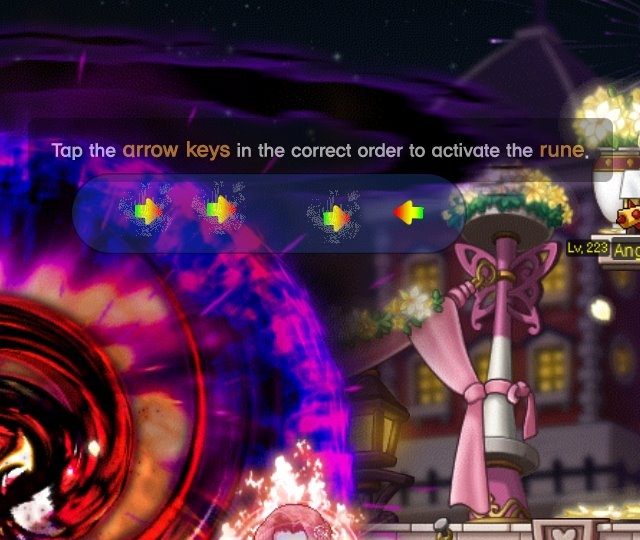rune_box: (61, 167, 481, 265)
